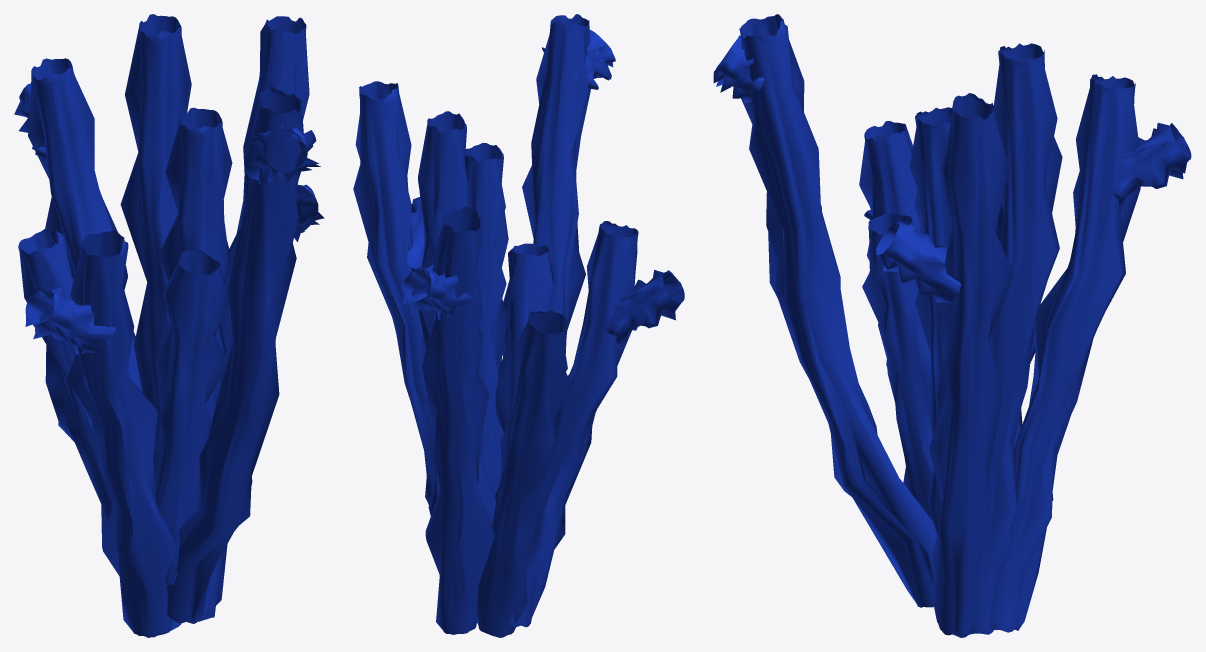
Rendered from TubularBlueSponge.glb.
3 views of the same model, side by side, from view 1: azimuth 30°, elevation 25°; view 2: azimuth 150°, elevation 25°; view 3: azimuth 270°, elevation 25° (orthographic). The views are drawn at different scales.
Visible parts, largest first — view 1: Cylinder.004, Cylinder.005, Cylinder.001, Cylinder.003, Cylinder.008, Cylinder, Cylinder.010, Cylinder.002, Cylinder.007, Cylinder.011, Cylinder.006, Cylinder.009; view 2: Cylinder.008, Cylinder.010, Cylinder.005, Cylinder.002, Cylinder.004, Cylinder, Cylinder.001, Cylinder.003, Cylinder.007, Cylinder.009, Cylinder.011, Cylinder.006; view 3: Cylinder.004, Cylinder.002, Cylinder.008, Cylinder.001, Cylinder.003, Cylinder, Cylinder.005, Cylinder.006, Cylinder.009, Cylinder.011.
Boxes of the visible parts, x1,y1,x2,y2 form: Cylinder.004: (166,86,303,623); Cylinder.005: (67,230,177,636); Cylinder.001: (120,14,191,443); Cylinder.003: (153,249,229,584); Cylinder.008: (28,58,142,391); Cylinder: (159,107,232,422); Cylinder.010: (18,228,181,637); Cylinder.002: (198,16,309,621); Cylinder.007: (25,287,115,354); Cylinder.011: (244,123,320,188); Cylinder.006: (241,184,324,241); Cylinder.009: (14,83,46,160); Cylinder.008: (422,207,495,634); Cylinder.010: (477,310,571,637); Cylinder.005: (508,221,638,627); Cylinder.002: (353,81,436,504); Cylinder.004: (522,14,590,334); Cylinder: (464,143,508,495); Cylinder.001: (418,111,496,622); Cylinder.003: (495,243,554,498); Cylinder.007: (605,270,684,343); Cylinder.009: (401,264,476,319); Cylinder.011: (542,30,615,89); Cylinder.006: (407,197,424,269); Cylinder.004: (739,14,936,607); Cylinder.002: (929,93,1014,637); Cylinder.008: (989,74,1140,632); Cylinder.001: (969,43,1062,634); Cylinder.003: (862,213,933,521); Cylinder: (909,107,952,535); Cylinder.005: (859,121,922,272); Cylinder.006: (876,221,960,303); Cylinder.009: (1112,123,1191,207); Cylinder.011: (713,35,764,102).
Size of the model in its own units: 2.68 by 4.86 by 3.42.
1 material, 1 textured.
